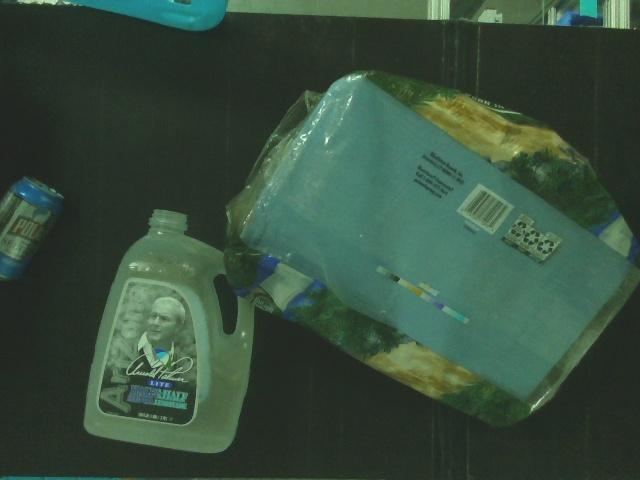metal: (0, 173, 69, 285)
plastic: (220, 68, 640, 433), (81, 204, 259, 461)
